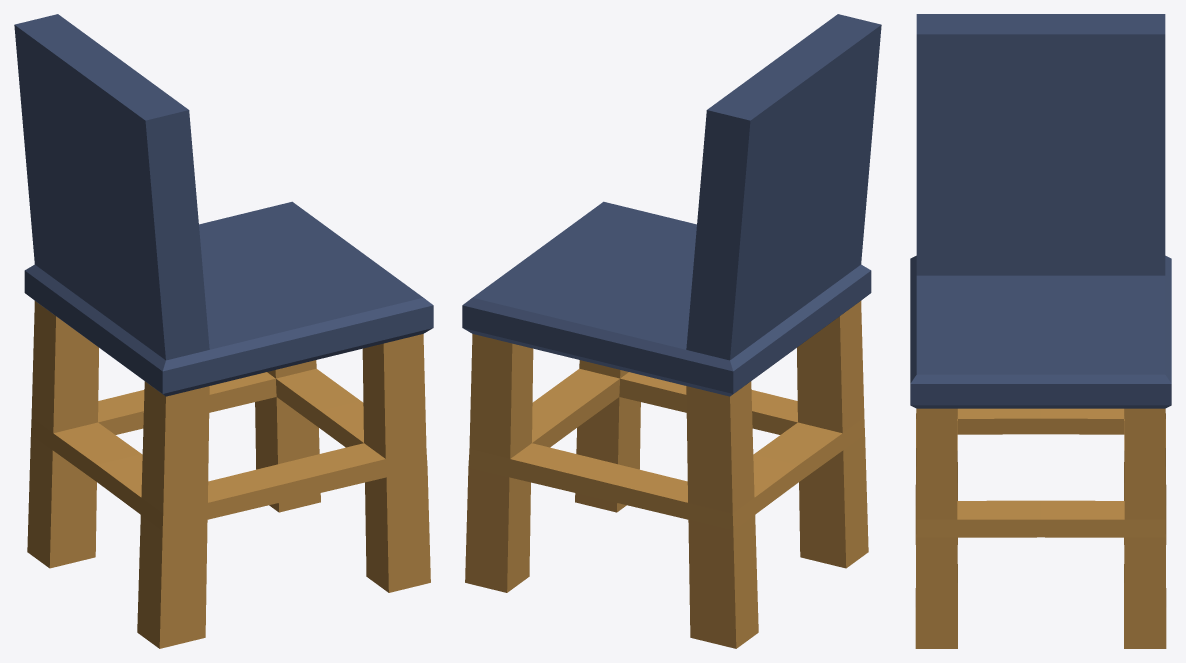
Rendered from chair.fbx.
3 renders of one model, left to right at view 1: azimuth 30°, elevation 25°; view 2: azimuth 150°, elevation 25°; view 3: azimuth 270°, elevation 25°, orthographic. The views are drawn at different scales.
Parts seen in each view (by area): view 1: Cube; view 2: Cube; view 3: Cube.
Part boxes in pixels (x1,y1,x2,y2): Cube: (14,14,433,648); Cube: (462,14,881,648); Cube: (910,14,1171,648).
Size of the model in its own units: 146 by 260 by 123.
